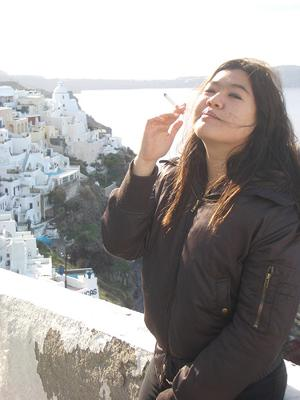person: (97, 57, 299, 398)
